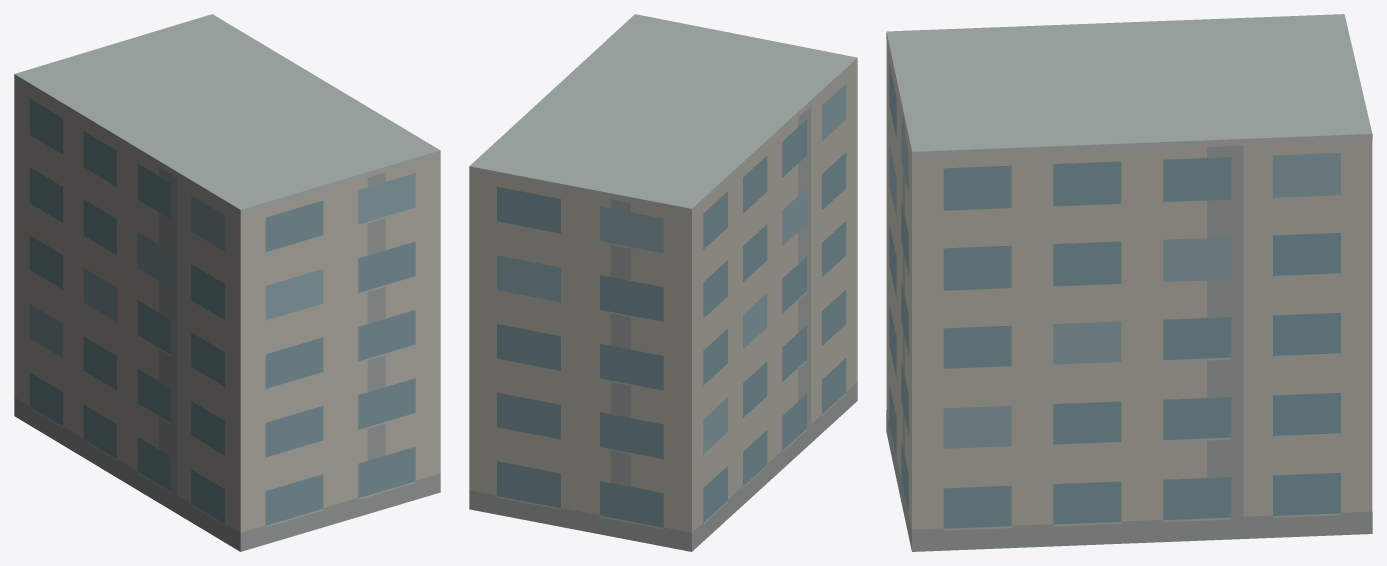
The model's file is survey-upis-32894106.glb.
3 views of the same model, side by side, from view 1: azimuth 30°, elevation 25°; view 2: azimuth 150°, elevation 25°; view 3: azimuth 270°, elevation 25° (orthographic). The views are drawn at different scales.
Visible parts, largest first — view 1: survey-upis-32894106.tmp; view 2: survey-upis-32894106.tmp; view 3: survey-upis-32894106.tmp.
Boxes of the visible parts, left/top/right/bottom form: survey-upis-32894106.tmp: left=14, top=14, right=440, bottom=551; survey-upis-32894106.tmp: left=469, top=14, right=857, bottom=551; survey-upis-32894106.tmp: left=886, top=14, right=1372, bottom=551.
Bounding box in the file's own units: 10.65 × 14.4 × 15.87.
